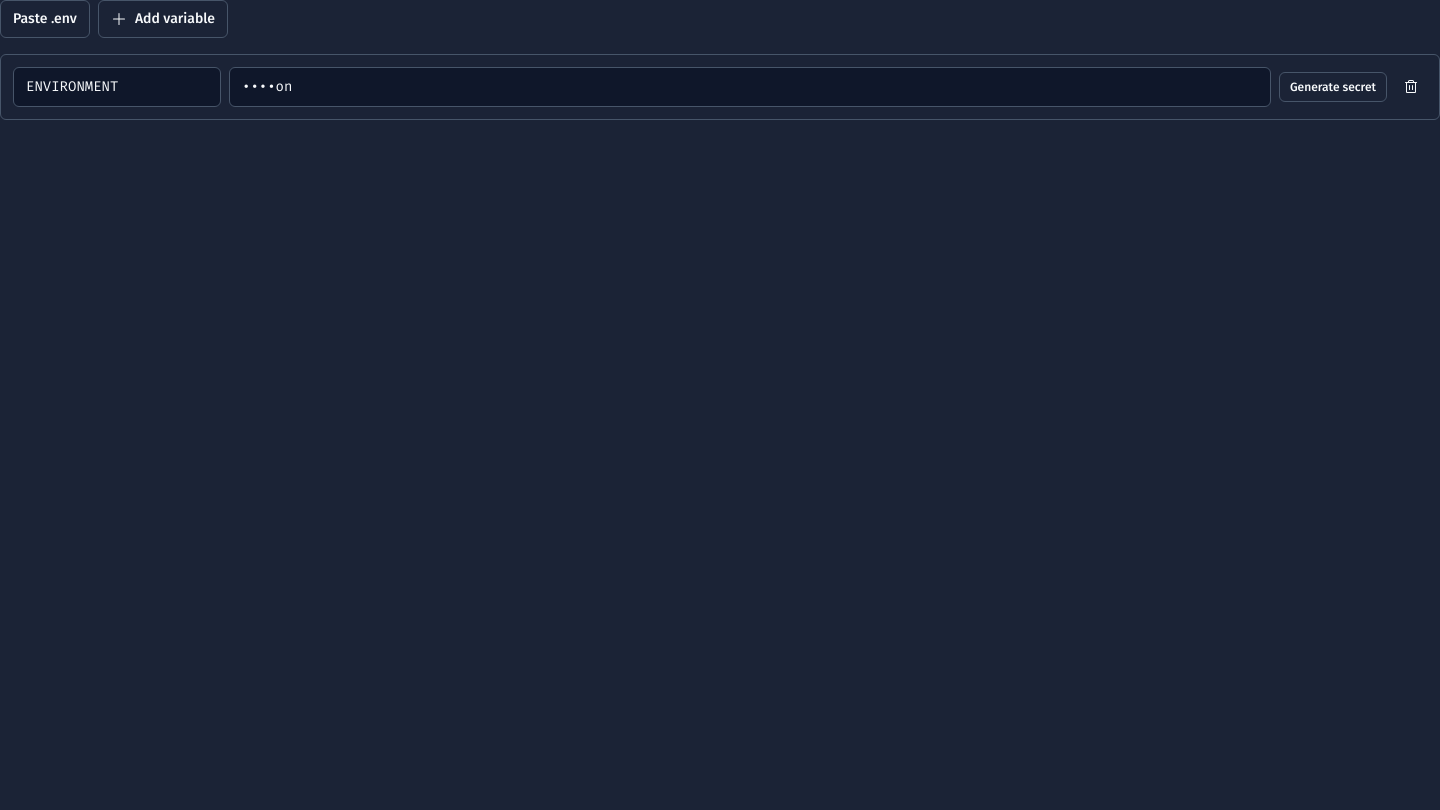
Scenario: EnvEditor › shows the revealed value in the popup and keeps the list masked
Click the button with aria-label "ENVIRONMENT" at (267, 86), box [229,67,1271,107]
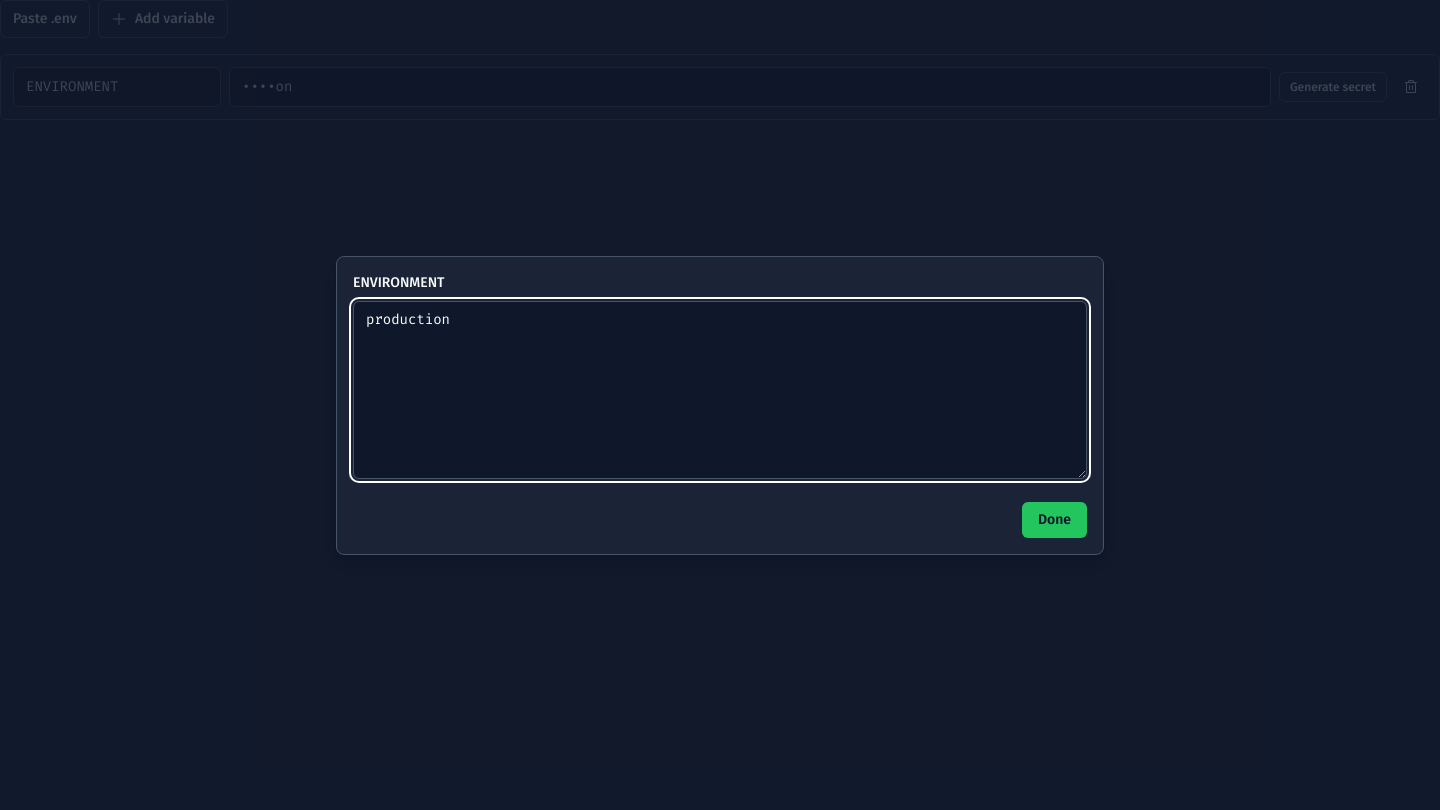
expect the text box named "Full value" holds "production": met, box [353,300,1087,478]
